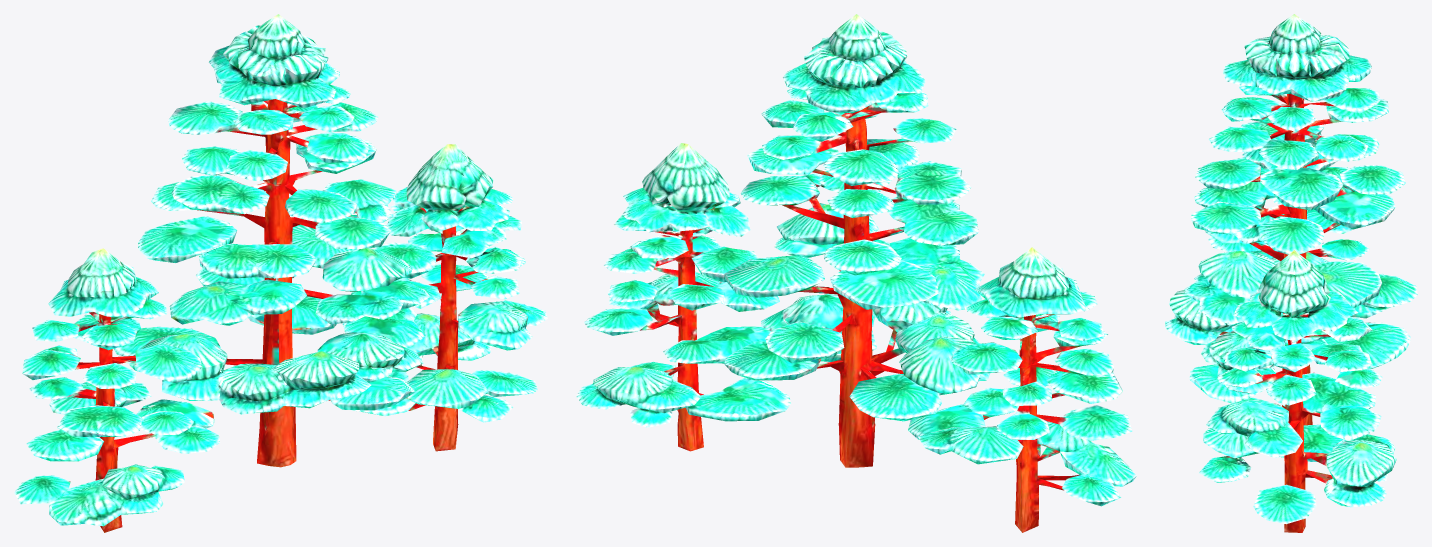
The model's file is ql_pine_lo.glb.
3 renders of one model, left to right at view 1: azimuth 30°, elevation 25°; view 2: azimuth 150°, elevation 25°; view 3: azimuth 270°, elevation 25°, orthographic. The views are drawn at different scales.
Parts seen in each view (by area): view 1: ql_pine; view 2: ql_pine; view 3: ql_pine.
Boxes of the visible parts, x1,y1,x2,y2 form: ql_pine: [14, 14, 547, 532]; ql_pine: [576, 14, 1136, 532]; ql_pine: [1165, 14, 1417, 532].
Size of the model in its own units: 13.79 by 12.04 by 6.26.
1 material, 1 textured.
